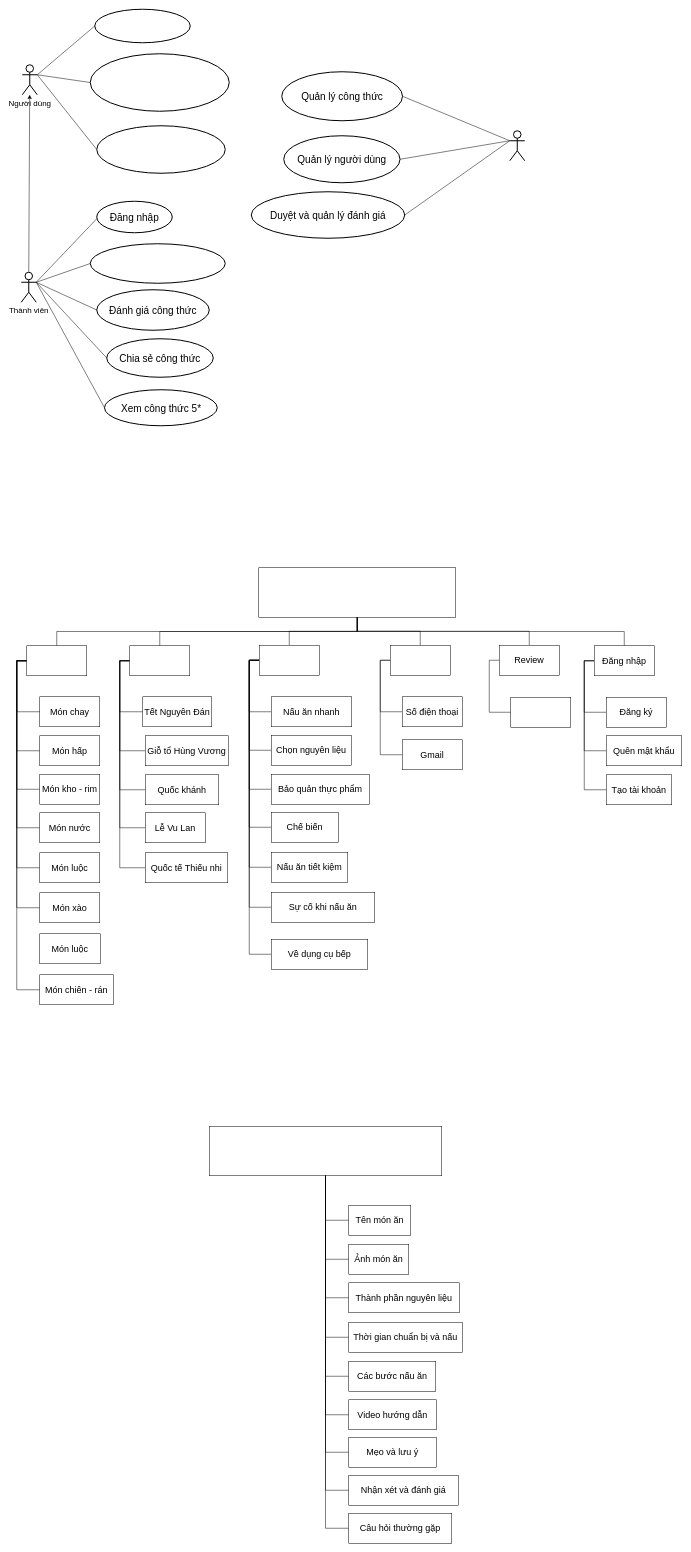
Image size: 691x1552. Some labels were removed from this diagram. Here are the shapes that lost their labels. From the top down, the centre of each, then its label:
the point at 142,25: Đăng ký tài khoản
the point at 160,82: Tìm kiếm công thức nấu ăn
the point at 161,149: Xem đánh giá công thức
the point at 517,145: Quản trị viên
the point at 158,263: Lưu công thức yêu thích
the point at 357,592: Trang chủ
the point at 56,660: Món ngon
the point at 159,660: Ngày lễ
the point at 289,660: Mẹo
the point at 420,660: Liên hệ
the point at 540,712: Nội dung
the point at 325,1151: Công thức món ăn cụ thể
